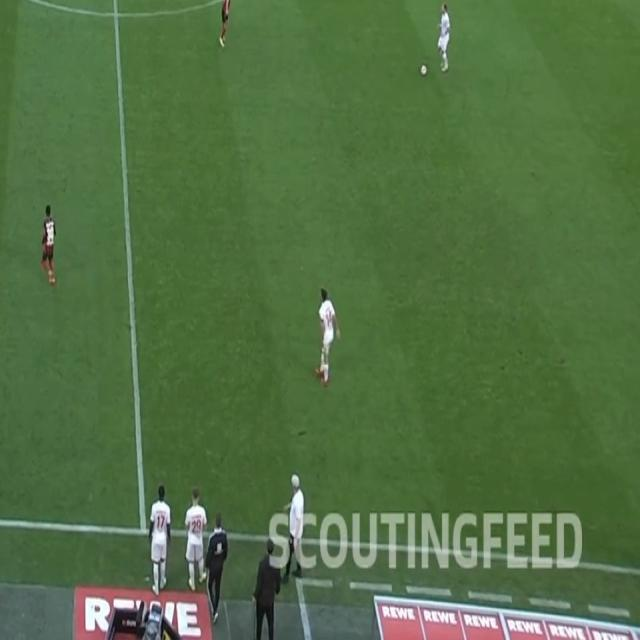ball: (420, 64, 427, 76)
